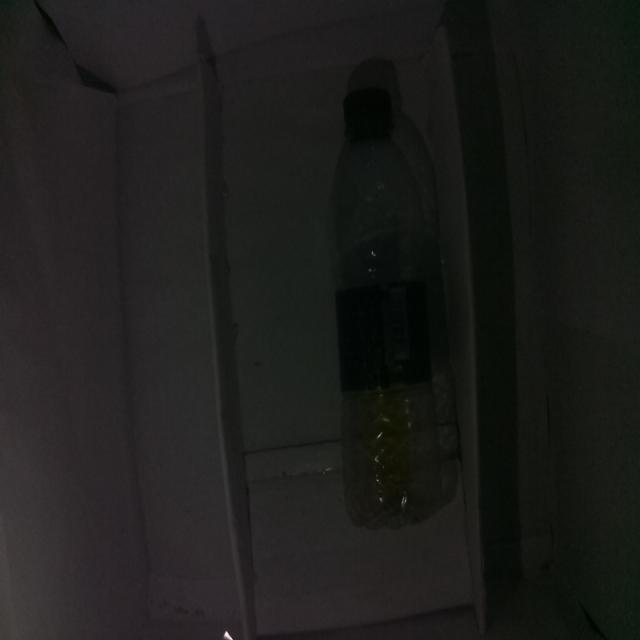Anorganik: (320, 69, 459, 523)
